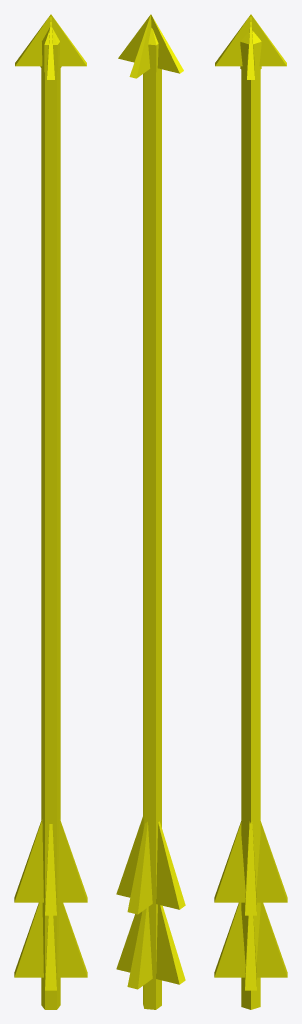
File: _arrow_b_23.glb
The picture shows the model from 3 angles, left to right: view 1: azimuth 90°, elevation 25°; view 2: azimuth 150°, elevation 25°; view 3: azimuth 270°, elevation 25°; orthographic projection.
Visible parts, largest first — view 1: arrow_b_23; view 2: arrow_b_23; view 3: arrow_b_23.
Part boxes in pixels (x1,y1,x2,y2): arrow_b_23: [14, 14, 87, 1009]; arrow_b_23: [116, 14, 185, 1009]; arrow_b_23: [214, 14, 287, 1009].
Size of the model in its own units: 0.0379 by 0.5667 by 0.0379.
Materials: 1 (1 with a texture image).
